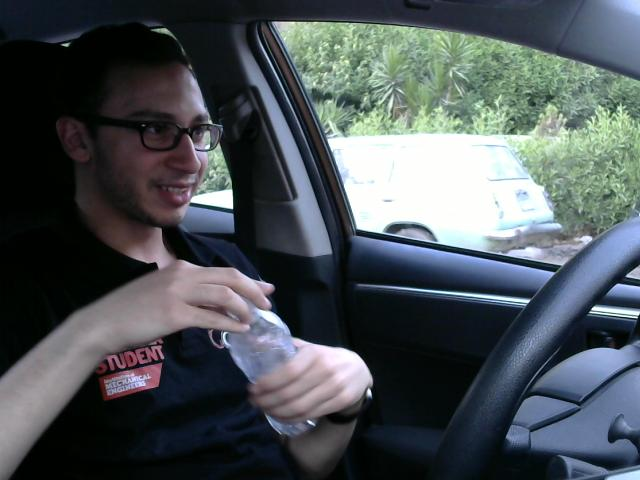Drinking: (202, 271, 351, 441)
